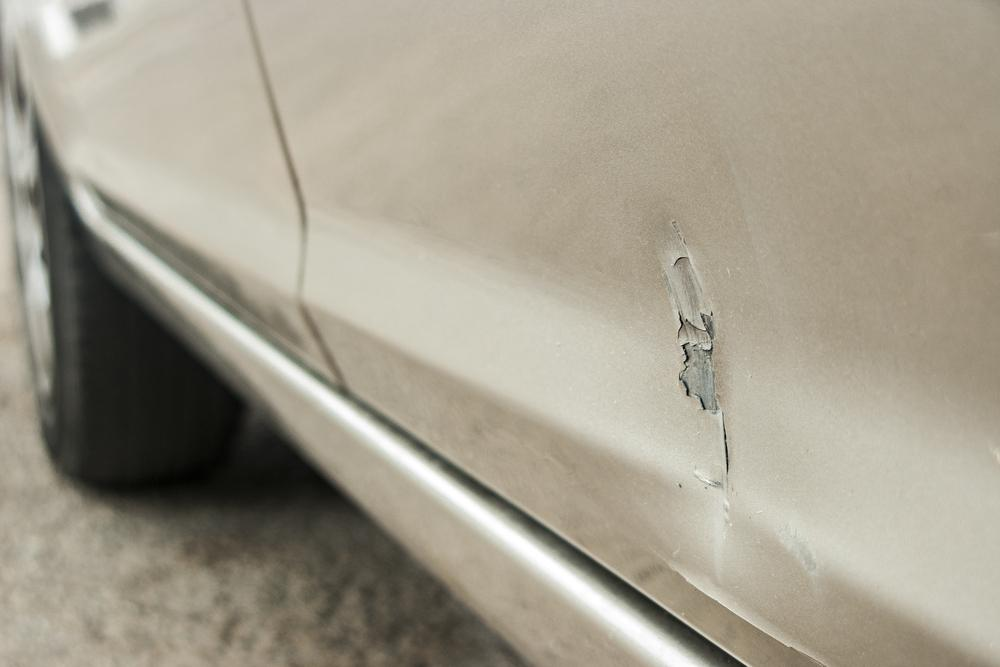scratch: (663, 222, 737, 572)
